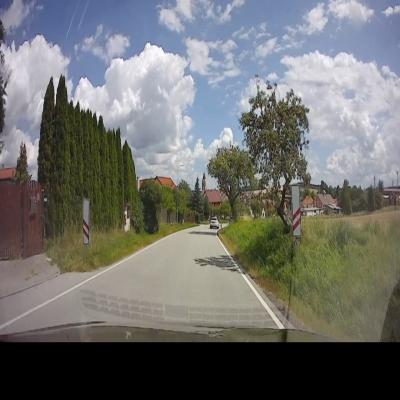clear-road: (94, 231, 262, 308)
